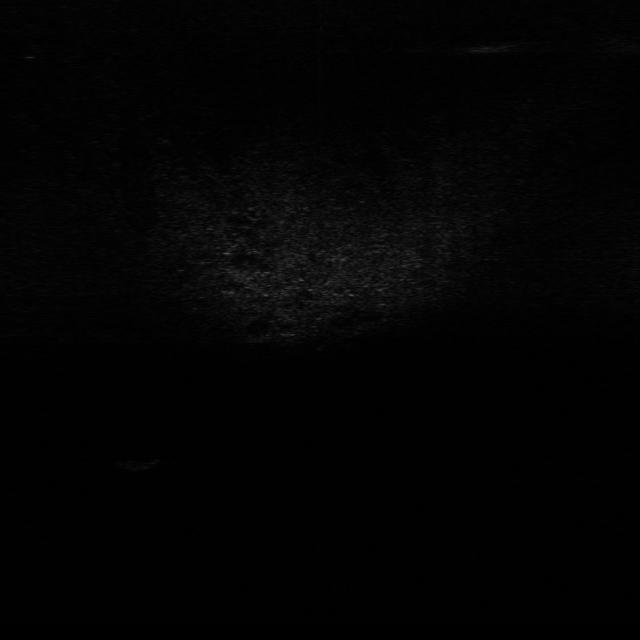cube: (116, 448, 162, 473)
